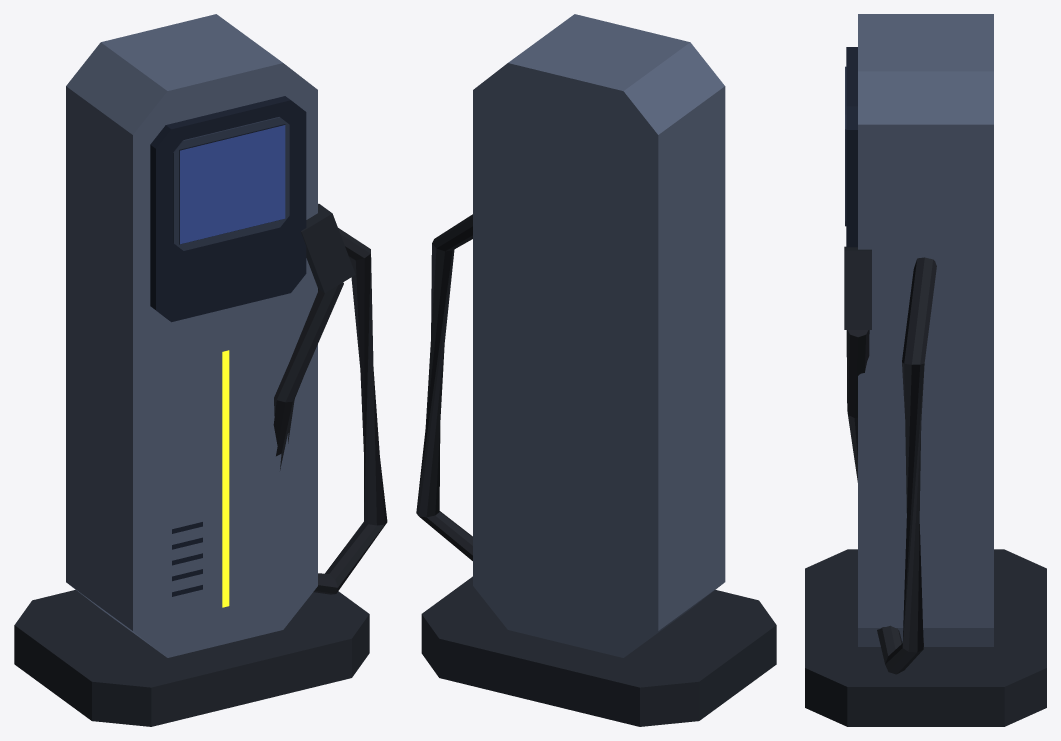
Rendered from res_ev_charger_pillar.glb.
3 renders of one model, left to right at view 1: azimuth 30°, elevation 25°; view 2: azimuth 150°, elevation 25°; view 3: azimuth 270°, elevation 25°, orthographic.
Visible parts, largest first — view 1: charger_pillar, charger_foot, glass_control_face, looped_charge_cable, print, screen_bezel, charge_light; view 2: charger_pillar, charger_foot, looped_charge_cable; view 3: charger_pillar, charger_foot, looped_charge_cable, glass_control_face.
Boxes of the visible parts, x1,y1,x2,y2 form: charger_pillar: [66, 14, 317, 657]; charger_foot: [14, 203, 369, 726]; glass_control_face: [150, 96, 306, 596]; looped_charge_cable: [273, 228, 387, 594]; print: [180, 125, 285, 244]; screen_bezel: [173, 117, 289, 250]; charge_light: [222, 350, 229, 607]; charger_pillar: [473, 14, 725, 657]; charger_foot: [421, 576, 776, 726]; looped_charge_cable: [416, 214, 472, 560]; charger_pillar: [858, 14, 993, 646]; charger_foot: [805, 246, 1046, 726]; looped_charge_cable: [846, 257, 936, 674]; glass_control_face: [846, 47, 857, 247].
Size of the model in its own units: 0.9 by 1.6 by 0.57.
